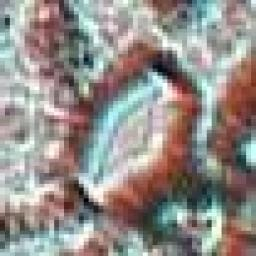crystals: (60, 52, 199, 230)
